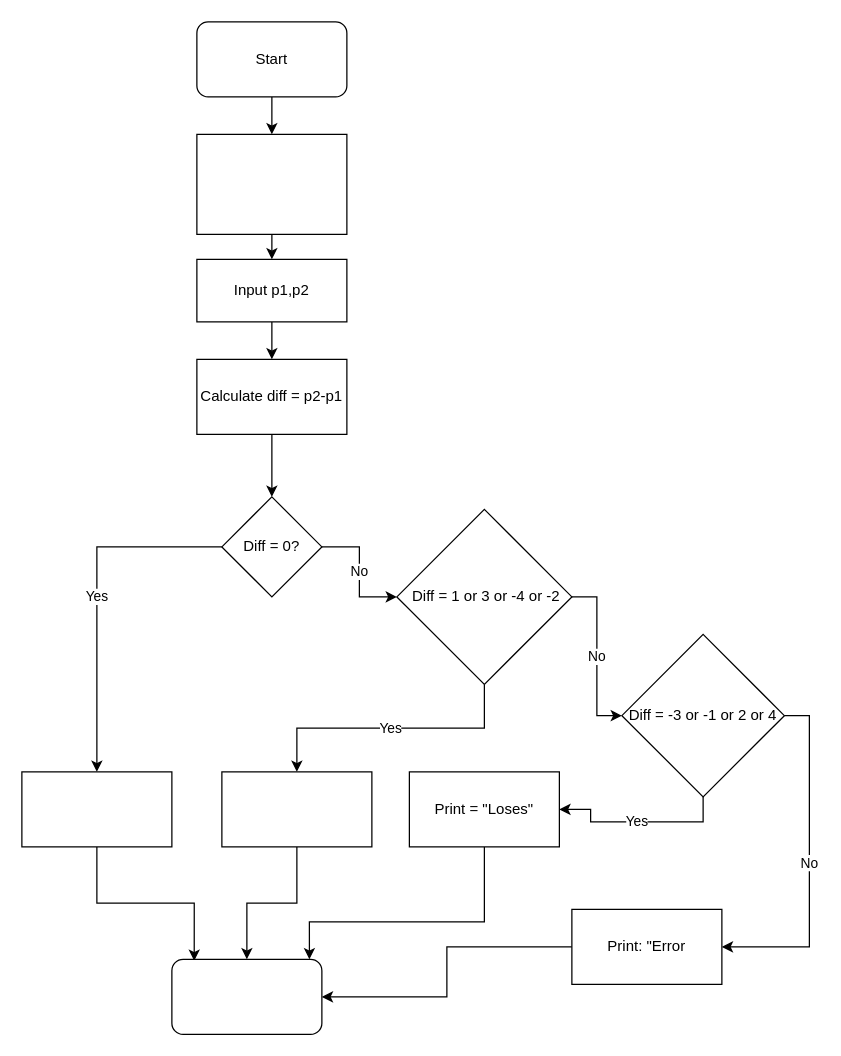
Image size: 841x1056. Some labels were removed from this diagram. The shapes that lost their labels are listed below. From the top down, each one's centre as x and y in pixels, then its label:
point (271, 183): Spock = 0 Scissors = 1 Paper = 2 Rock = 3 Lizard = 4
point (96, 809): Print = "Tie"
point (296, 809): Print = "Wins"
point (246, 996): End
